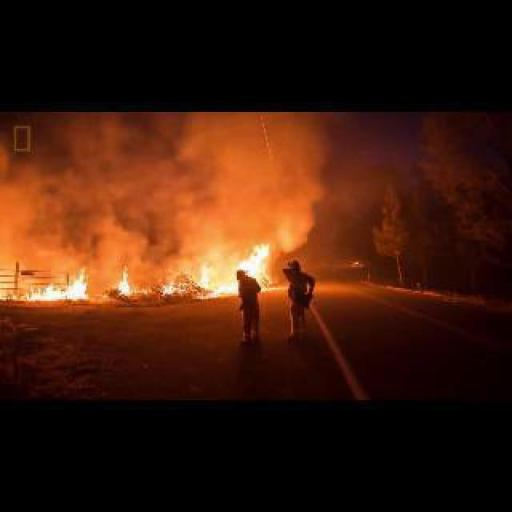smoke: (4, 109, 332, 259), (2, 269, 92, 301), (190, 251, 237, 299), (242, 240, 275, 290), (116, 266, 134, 294), (160, 278, 176, 294)
